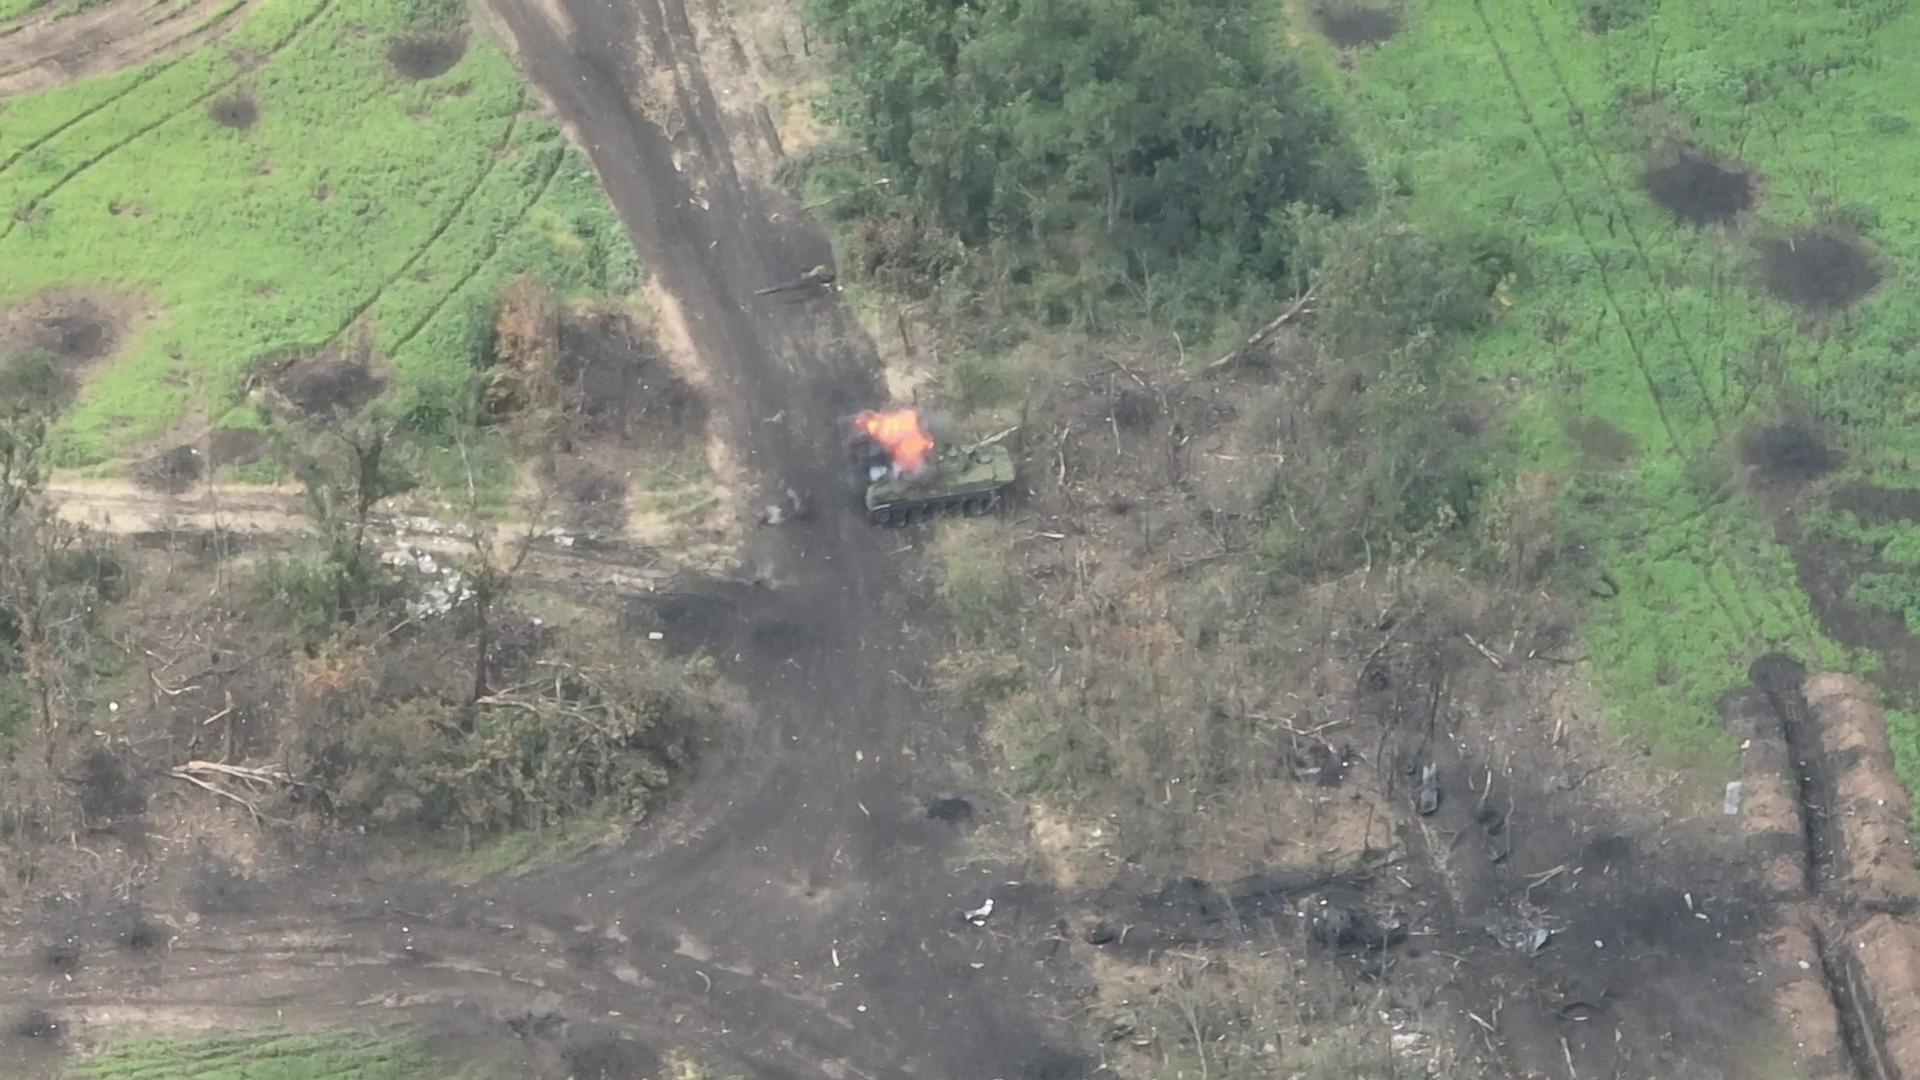tank: (858, 422, 1021, 533)
